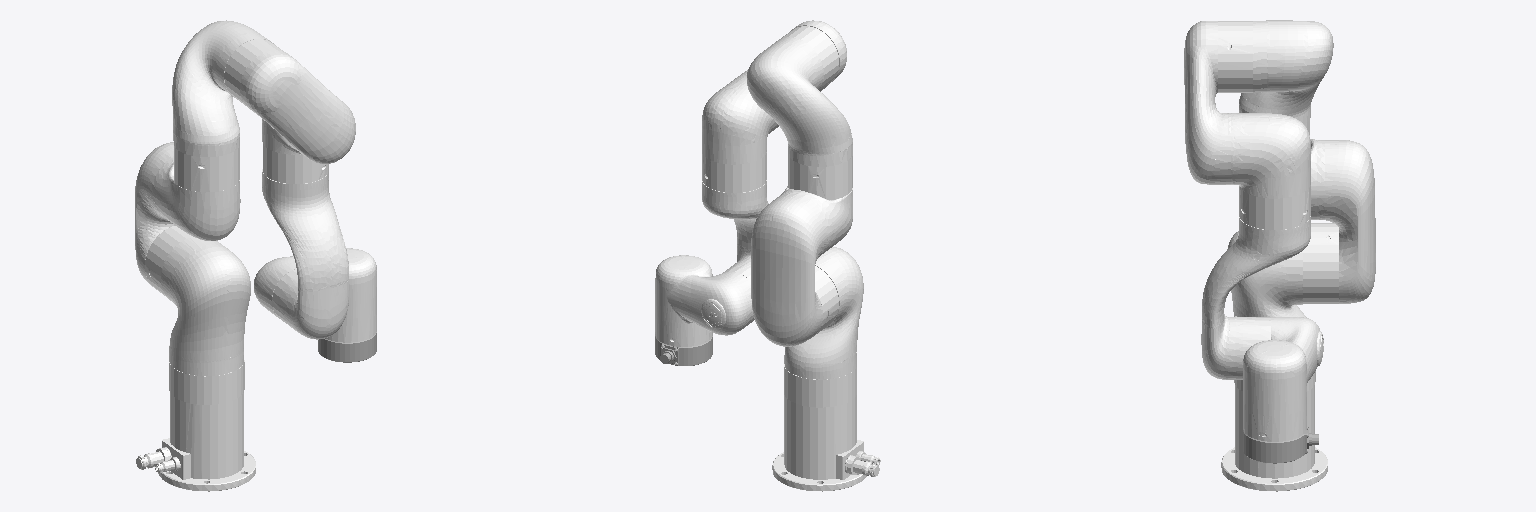
--- What the picture shows (computed from the rendered views, not written in the file) ---
3 views of the same robot in one strip: view 1: azimuth 30°, elevation 25°; view 2: azimuth 150°, elevation 25°; view 3: azimuth 270°, elevation 25° (orthographic).
Robot: UF_ROBOT — 18 links, 17 joints (13 revolute, 4 fixed); root link world; default pose: all joints at 0.
Visible links, largest first — view 1: link1, link4, link5, link_base, link3, link2, link6, link7; view 2: link2, link3, link_base, link4, link6, link1, link5, link7; view 3: link4, link3, link2, link6, link5, link1, link_base, link7.
Link boxes in pixels (x1,y1,x2,y2): link1: (145,226,250,375); link4: (240,50,355,183); link5: (262,169,348,339); link_base: (136,360,255,491); link3: (172,20,283,156); link2: (135,142,240,286); link6: (254,248,376,342); link7: (318,332,376,362); link2: (751,155,852,346); link3: (747,26,852,166); link_base: (772,364,880,491); link4: (702,20,846,192); link6: (655,255,754,346); link1: (784,247,863,378); link5: (702,180,768,280); link7: (655,336,712,365); link4: (1184,21,1310,229); link3: (1218,20,1333,123); link2: (1304,120,1375,303); link6: (1243,317,1323,441); link5: (1201,216,1310,379); link1: (1227,223,1338,317); link_base: (1221,371,1327,491); link7: (1243,426,1318,463).
Bounding box of the posed robot: 0.3358 × 0.2259 × 0.6028 m (x, y, z).
Meshes: 15 distinct files referenced, 8 mesh visuals loaded (8 binary STL); not drawn: 7 (reference not matched to a file when rendering).

URDF robot description (UF_ROBOT):
<?xml version="1.0" ?>
<!-- =================================================================================== -->
<!-- |    This document was autogenerated by xacro from xarm_description/urdf/xarm_device.urdf.xacro | -->
<!-- |    EDITING THIS FILE BY HAND IS NOT RECOMMENDED                                 | -->
<!-- =================================================================================== -->
<robot name="UF_ROBOT">
  <!-- Insert at the beginning of xarm_device_macro.xacro -->
  <material name="Black">
    <color rgba="0.0 0.0 0.0 1.0"/>
  </material>
  <material name="Red">
    <color rgba="0.8 0.0 0.0 1.0"/>
  </material>
  <material name="White">
    <color rgba="1.0 1.0 1.0 1.0"/>
  </material>
  <material name="Silver">
    <color rgba="0.753 0.753 0.753 1.0"/>
  </material>
  <link name="world"/>
  <joint name="world_joint" type="fixed">
    <parent link="world"/>
    <child link="link_base"/>
    <origin rpy="0 0 0" xyz="-0.095 -0.085 0.01"/>
  </joint>
  <link name="link_base">
    <inertial>
      <origin rpy="0 0 0" xyz="-0.021131 -0.0016302 0.056488"/>
      <mass value="0.88556"/>
      <inertia ixx="0.0030595" ixy="0.00012259" ixz="-0.00062705" iyy="0.0037783" iyz="0.00027023" izz="0.0020125"/>
    </inertial>
    <visual>
      <geometry>
        <mesh filename="link_base.stl"/>
      </geometry>
      <origin rpy="0 0 0" xyz="0 0 0"/>
      <material name="White"/>
    </visual>
    <collision>
      <geometry>
        <mesh filename="link_base.stl"/>
      </geometry>
      <origin rpy="0 0 0" xyz="0 0 0"/>
    </collision>
  </link>
  <link name="link1">
    <inertial>
      <origin rpy="0 0 0" xyz="-0.0002 0.02905 -0.01233"/>
      <mass value="2.382"/>
      <inertia ixx="0.0056905" ixy="-1.579e-05" ixz="5.125e-06" iyy="0.0049566" iyz="-0.000873378" izz="0.003316654"/>
    </inertial>
    <visual>
      <geometry>
        <mesh filename="link1.stl"/>
      </geometry>
      <origin rpy="0 0 0" xyz="0 0 0"/>
      <material name="White"/>
    </visual>
    <collision>
      <geometry>
        <mesh filename="link1.stl"/>
      </geometry>
      <origin rpy="0 0 0" xyz="0 0 0"/>
    </collision>
  </link>
  <joint name="joint1" type="revolute">
    <origin rpy="0 0 0" xyz="0 0 0.267"/>
    <parent link="link_base"/>
    <child link="link1"/>
    <axis xyz="0 0 1"/>
    <limit effort="50" lower="-6.283185307179586" upper="6.283185307179586" velocity="3.14"/>
    <dynamics damping="10" friction="1"/>
  </joint>
  <link name="link2">
    <inertial>
      <origin rpy="0 0 0" xyz="0.00022 -0.12856 0.01735"/>
      <mass value="1.869"/>
      <inertia ixx="0.0095989" ixy="1.541e-06" ixz="5.56e-06" iyy="0.00382472" iyz="-0.00317156" izz="0.007565669"/>
    </inertial>
    <visual>
      <geometry>
        <mesh filename="link2.stl"/>
      </geometry>
      <origin rpy="0 0 0" xyz="0 0 0"/>
      <material name="White"/>
    </visual>
    <collision>
      <geometry>
        <mesh filename="link2.stl"/>
      </geometry>
      <origin rpy="0 0 0" xyz="0 0 0"/>
    </collision>
  </link>
  <joint name="joint2" type="revolute">
    <origin rpy="-1.5708 0 0" xyz="0 0 0"/>
    <parent link="link1"/>
    <child link="link2"/>
    <axis xyz="0 0 1"/>
    <limit effort="50" lower="-2.059" upper="2.0944" velocity="3.14"/>
    <dynamics damping="10" friction="1"/>
  </joint>
  <link name="link3">
    <inertial>
      <origin rpy="0 0 0" xyz="0.0466 -0.02463 -0.00768"/>
      <mass value="1.6383"/>
      <inertia ixx="0.00310955" ixy="0.00030837" ixz="-0.00058453" iyy="0.00264483" iyz="0.000338893" izz="0.0026624"/>
    </inertial>
    <visual>
      <geometry>
        <mesh filename="link3.stl"/>
      </geometry>
      <origin rpy="0 0 0" xyz="0 0 0"/>
      <material name="White"/>
    </visual>
    <collision>
      <geometry>
        <mesh filename="link3.stl"/>
      </geometry>
      <origin rpy="0 0 0" xyz="0 0 0"/>
    </collision>
  </link>
  <joint name="joint3" type="revolute">
    <origin rpy="1.5708 0 0" xyz="0 -0.293 0"/>
    <parent link="link2"/>
    <child link="link3"/>
    <axis xyz="0 0 1"/>
    <limit effort="30" lower="-6.283185307179586" upper="6.283185307179586" velocity="3.14"/>
    <dynamics damping="5" friction="1"/>
  </joint>
  <link name="link4">
    <inertial>
      <origin rpy="0 0 0" xyz="0.07047 -0.11575 0.012"/>
      <mass value="1.7269"/>
      <inertia ixx="0.005889" ixy="0.00137112" ixz="0.00088143" iyy="0.00359703" iyz="-0.001762155" izz="0.00543244"/>
    </inertial>
    <visual>
      <geometry>
        <mesh filename="link4.stl"/>
      </geometry>
      <origin rpy="0 0 0" xyz="0 0 0"/>
      <material name="White"/>
    </visual>
    <collision>
      <geometry>
        <mesh filename="link4.stl"/>
      </geometry>
      <origin rpy="0 0 0" xyz="0 0 0"/>
    </collision>
  </link>
  <joint name="joint4" type="revolute">
    <origin rpy="1.5708 0 0" xyz="0.0525 0 0"/>
    <parent link="link3"/>
    <child link="link4"/>
    <axis xyz="0 0 1"/>
    <limit effort="30" lower="-0.19198" upper="3.927" velocity="3.14"/>
    <dynamics damping="5" friction="1"/>
  </joint>
  <link name="link5">
    <inertial>
      <origin rpy="0 0 0" xyz="-0.00032 0.01604 -0.026"/>
      <mass value="1.3203"/>
      <inertia ixx="0.00534665" ixy="1.5117e-05" ixz="-3.69e-07" iyy="0.0049779" iyz="-0.00022132" izz="0.0013624"/>
    </inertial>
    <visual>
      <geometry>
        <mesh filename="link5.stl"/>
      </geometry>
      <origin rpy="0 0 0" xyz="0 0 0"/>
      <material name="White"/>
    </visual>
    <collision>
      <geometry>
        <mesh filename="link5.stl"/>
      </geometry>
      <origin rpy="0 0 0" xyz="0 0 0"/>
    </collision>
  </link>
  <joint name="joint5" type="revolute">
    <origin rpy="1.5708 0 0" xyz="0.0775 -0.3425 0"/>
    <parent link="link4"/>
    <child link="link5"/>
    <axis xyz="0 0 1"/>
    <limit effort="30" lower="-6.283185307179586" upper="6.283185307179586" velocity="3.14"/>
    <dynamics damping="5" friction="1"/>
  </joint>
  <link name="link6">
    <inertial>
      <origin rpy="0 0 0" xyz="0.06469 0.03278 0.02141"/>
      <mass value="1.325"/>
      <inertia ixx="0.0014745" ixy="-0.000488" ixz="0.0002953" iyy="0.0019037" iyz="0.00014749" izz="0.0023652"/>
    </inertial>
    <visual>
      <geometry>
        <mesh filename="link6.stl"/>
      </geometry>
      <origin rpy="0 0 0" xyz="0 0 0"/>
      <material name="White"/>
    </visual>
    <collision>
      <geometry>
        <mesh filename="link6.stl"/>
      </geometry>
      <origin rpy="0 0 0" xyz="0 0 0"/>
    </collision>
  </link>
  <joint name="joint6" type="revolute">
    <origin rpy="1.5708 0 0" xyz="0 0 0"/>
    <parent link="link5"/>
    <child link="link6"/>
    <axis xyz="0 0 1"/>
    <limit effort="20" lower="-1.69297" upper="3.141592653589793" velocity="3.14"/>
    <dynamics damping="2" friction="1"/>
  </joint>
  <link name="link7">
    <inertial>
      <origin rpy="0 0 0" xyz="0 -0.00677 -0.01098"/>
      <mass value="0.17"/>
      <inertia ixx="9.3e-05" ixy="-0.0" ixz="-0.0" iyy="5.87e-05" iyz="-3.6e-06" izz="0.000132"/>
    </inertial>
    <visual>
      <geometry>
        <mesh filename="link7.stl"/>
      </geometry>
      <origin rpy="0 0 0" xyz="0 0 0"/>
      <material name="Silver"/>
    </visual>
    <collision>
      <geometry>
        <mesh filename="end_tool.stl"/>
      </geometry>
      <origin rpy="0 0 0" xyz="0 0 0"/>
    </collision>
  </link>
  <joint name="joint7" type="revolute">
    <origin rpy="-1.5708 0 0" xyz="0.076 0.097 0"/>
    <parent link="link6"/>
    <child link="link7"/>
    <axis xyz="0 0 1"/>
    <limit effort="20" lower="-6.283185307179586" upper="6.283185307179586" velocity="3.14"/>
    <dynamics damping="2" friction="1"/>
  </joint>
  <!-- <link name="${prefix}link_eef" />
    <joint name="${prefix}joint_eef" type="fixed">
      <origin xyz="0 0 0" rpy="0 0 0" />
      <parent link="${prefix}link7" />
      <child link="${prefix}link_eef" />
    </joint> -->
  <transmission name="tran1">
    <type>transmission_interface/SimpleTransmission</type>
    <joint name="joint1">
      <hardwareInterface>hardware_interface/PositionJointInterface</hardwareInterface>
    </joint>
    <actuator name="motor1">
      <hardwareInterface>hardware_interface/PositionJointInterface</hardwareInterface>
      <mechanicalReduction>100</mechanicalReduction>
    </actuator>
  </transmission>
  <transmission name="tran2">
    <type>transmission_interface/SimpleTransmission</type>
    <joint name="joint2">
      <hardwareInterface>hardware_interface/PositionJointInterface</hardwareInterface>
    </joint>
    <actuator name="motor2">
      <hardwareInterface>hardware_interface/PositionJointInterface</hardwareInterface>
      <mechanicalReduction>100</mechanicalReduction>
    </actuator>
  </transmission>
  <transmission name="tran3">
    <type>transmission_interface/SimpleTransmission</type>
    <joint name="joint3">
      <hardwareInterface>hardware_interface/PositionJointInterface</hardwareInterface>
    </joint>
    <actuator name="motor3">
      <hardwareInterface>hardware_interface/PositionJointInterface</hardwareInterface>
      <mechanicalReduction>100</mechanicalReduction>
    </actuator>
  </transmission>
  <transmission name="tran4">
    <type>transmission_interface/SimpleTransmission</type>
    <joint name="joint4">
      <hardwareInterface>hardware_interface/PositionJointInterface</hardwareInterface>
    </joint>
    <actuator name="motor4">
      <hardwareInterface>hardware_interface/PositionJointInterface</hardwareInterface>
      <mechanicalReduction>100</mechanicalReduction>
    </actuator>
  </transmission>
  <transmission name="tran5">
    <type>transmission_interface/SimpleTransmission</type>
    <joint name="joint5">
      <hardwareInterface>hardware_interface/PositionJointInterface</hardwareInterface>
    </joint>
    <actuator name="motor5">
      <hardwareInterface>hardware_interface/PositionJointInterface</hardwareInterface>
      <mechanicalReduction>100</mechanicalReduction>
    </actuator>
  </transmission>
  <transmission name="tran6">
    <type>transmission_interface/SimpleTransmission</type>
    <joint name="joint6">
      <hardwareInterface>hardware_interface/PositionJointInterface</hardwareInterface>
    </joint>
    <actuator name="motor6">
      <hardwareInterface>hardware_interface/PositionJointInterface</hardwareInterface>
      <mechanicalReduction>100</mechanicalReduction>
    </actuator>
  </transmission>
  <transmission name="tran7">
    <type>transmission_interface/SimpleTransmission</type>
    <joint name="joint7">
      <hardwareInterface>hardware_interface/PositionJointInterface</hardwareInterface>
    </joint>
    <actuator name="motor7">
      <hardwareInterface>hardware_interface/PositionJointInterface</hardwareInterface>
      <mechanicalReduction>100</mechanicalReduction>
    </actuator>
  </transmission>
  <gazebo reference="link_base">
    <selfCollide>true</selfCollide>
  </gazebo>
  <gazebo reference="link1">
    <selfCollide>true</selfCollide>
  </gazebo>
  <gazebo reference="link2">
    <selfCollide>true</selfCollide>
  </gazebo>
  <gazebo reference="link3">
    <selfCollide>true</selfCollide>
  </gazebo>
  <gazebo reference="link4">
    <selfCollide>true</selfCollide>
  </gazebo>
  <gazebo reference="link5">
    <selfCollide>true</selfCollide>
  </gazebo>
  <gazebo reference="link6">
    <selfCollide>true</selfCollide>
  </gazebo>
  <gazebo reference="link7">
    <selfCollide>true</selfCollide>
  </gazebo>
  <link name="link_eef"/>
  <joint name="joint_eef" type="fixed">
    <origin rpy="0 0 0" xyz="0 0 0"/>
    <parent link="link7"/>
    <child link="link_eef"/>
  </joint>
  <joint name="gripper_fix" type="fixed">
    <parent link="link_eef"/>
    <child link="xarm_gripper_base_link"/>
    <origin rpy="0 0 3.141592653589793" xyz="0 0 0"/>
  </joint>
  <link name="xarm_gripper_base_link">
    <inertial>
      <origin rpy="0 0 0" xyz="-0.00065489 -0.0018497 0.048028"/>
      <mass value="0.54156"/>
      <inertia ixx="0.00047106" ixy="3.9292E-07" ixz="2.6537E-06" iyy="0.00033072" iyz="-1.0975E-05" izz="0.00025642"/>
    </inertial>
    <visual>
      <geometry>
        <mesh filename="base_link.stl"/>
      </geometry>
      <origin rpy="0 0 0" xyz="0 0 0"/>
      <material name="White"/>
    </visual>
    <collision>
      <geometry>
        <mesh filename="base_link.stl"/>
      </geometry>
      <origin rpy="0 0 0" xyz="0 0 0"/>
    </collision>
  </link>
  <link name="left_outer_knuckle">
    <inertial>
      <origin rpy="0 0 0" xyz="2.9948E-14 0.021559 0.015181"/>
      <mass value="0.033618"/>
      <inertia ixx="1.9111E-05" ixy="-1.8803E-17" ixz="-1.1002E-17" iyy="6.6256E-06" iyz="-7.3008E-06" izz="1.3185E-05"/>
    </inertial>
    <visual>
      <geometry>
        <mesh filename="left_outer_knuckle.stl"/>
      </geometry>
      <origin rpy="0 0 0" xyz="0 0 0"/>
      <material name="Silver"/>
    </visual>
    <collision>
      <geometry>
        <mesh filename="left_outer_knuckle.stl"/>
      </geometry>
      <origin rpy="0 0 0" xyz="0 0 0"/>
    </collision>
  </link>
  <joint name="drive_joint" type="revolute">
    <origin rpy="0 0 0" xyz="0 0.035 0.059098"/>
    <parent link="xarm_gripper_base_link"/>
    <child link="left_outer_knuckle"/>
    <axis xyz="1 0 0"/>
    <limit effort="50" lower="0" upper="0.85" velocity="2"/>
  </joint>
  <link name="left_finger">
    <inertial>
      <origin rpy="0 0 0" xyz="-2.4536E-14 -0.016413 0.029258"/>
      <mass value="0.048304"/>
      <inertia ixx="1.7493E-05" ixy="-4.2156E-19" ixz="6.9164E-18" iyy="1.7225E-05" iyz="4.6433E-06" izz="5.1466E-06"/>
    </inertial>
    <visual>
      <geometry>
        <mesh filename="left_finger.stl"/>
      </geometry>
      <origin rpy="0 0 0" xyz="0 0 0"/>
      <material name="Silver"/>
    </visual>
    <collision>
      <geometry>
        <mesh filename="left_finger.stl"/>
      </geometry>
      <origin rpy="0 0 0" xyz="0 0 0"/>
    </collision>
  </link>
  <joint name="left_finger_joint" type="revolute">
    <origin rpy="0 0 0" xyz="0 0.035465 0.042039"/>
    <parent link="left_outer_knuckle"/>
    <child link="left_finger"/>
    <axis xyz="-1 0 0"/>
    <limit effort="50" lower="0" upper="0.85" velocity="2"/>
    <mimic joint="drive_joint" multiplier="1" offset="0"/>
  </joint>
  <link name="left_inner_knuckle">
    <inertial>
      <origin rpy="0 0 0" xyz="1.86600784687907E-06 0.0220467847633621 0.0261334672830885"/>
      <mass value="0.0230125781256706"/>
      <inertia ixx="6.09490024271906E-06" ixy="6.06651326160071E-11" ixz="7.19102670500635E-11" iyy="6.01955084375188E-06" iyz="-2.75316812991721E-06" izz="5.07862004479903E-06"/>
    </inertial>
    <visual>
      <geometry>
        <mesh filename="left_inner_knuckle.stl"/>
      </geometry>
      <origin rpy="0 0 0" xyz="0 0 0"/>
      <material name="Silver"/>
    </visual>
    <collision>
      <geometry>
        <mesh filename="left_inner_knuckle.stl"/>
      </geometry>
      <origin rpy="0 0 0" xyz="0 0 0"/>
    </collision>
  </link>
  <joint name="left_inner_knuckle_joint" type="revolute">
    <origin rpy="0 0 0" xyz="0 0.02 0.074098"/>
    <parent link="xarm_gripper_base_link"/>
    <child link="left_inner_knuckle"/>
    <axis xyz="1 0 0"/>
    <limit effort="50" lower="0" upper="0.85" velocity="2"/>
    <mimic joint="drive_joint" multiplier="1" offset="0"/>
  </joint>
  <link name="right_outer_knuckle">
    <inertial>
      <origin rpy="0 0 0" xyz="-3.1669E-14 -0.021559 0.015181"/>
      <mass value="0.033618"/>
      <inertia ixx="1.9111E-05" ixy="-1.8789E-17" ixz="1.0986E-17" iyy="6.6256E-06" iyz="7.3008E-06" izz="1.3185E-05"/>
    </inertial>
    <visual>
      <geometry>
        <mesh filename="right_outer_knuckle.stl"/>
      </geometry>
      <origin rpy="0 0 0" xyz="0 0 0"/>
      <material name="Silver"/>
    </visual>
    <collision>
      <geometry>
        <mesh filename="right_outer_knuckle.stl"/>
      </geometry>
      <origin rpy="0 0 0" xyz="0 0 0"/>
    </collision>
  </link>
  <joint name="right_outer_knuckle_joint" type="revolute">
    <origin rpy="0 0 0" xyz="0 -0.035 0.059098"/>
    <parent link="xarm_gripper_base_link"/>
    <child link="right_outer_knuckle"/>
    <axis xyz="-1 0 0"/>
    <limit effort="50" lower="0" upper="0.85" velocity="2"/>
    <mimic joint="drive_joint" multiplier="1" offset="0"/>
  </joint>
  <link name="right_finger">
    <inertial>
      <origin rpy="0 0 0" xyz="2.5618E-14 0.016413 0.029258"/>
      <mass value="0.048304"/>
      <inertia ixx="1.7493E-05" ixy="-5.0014E-19" ixz="-7.5079E-18" iyy="1.7225E-05" iyz="-4.6435E-06" izz="5.1466E-06"/>
    </inertial>
    <visual>
      <geometry>
        <mesh filename="right_finger.stl"/>
      </geometry>
      <origin rpy="0 0 0" xyz="0 0 0"/>
      <material name="Silver"/>
    </visual>
    <collision>
      <geometry>
        <mesh filename="right_finger.stl"/>
      </geometry>
      <origin rpy="0 0 0" xyz="0 0 0"/>
    </collision>
  </link>
  <joint name="right_finger_joint" type="revolute">
    <origin rpy="0 0 0" xyz="0 -0.035465 0.042039"/>
    <parent link="right_outer_knuckle"/>
    <child link="right_finger"/>
    <axis xyz="1 0 0"/>
    <limit effort="50" lower="0" upper="0.85" velocity="2"/>
    <mimic joint="drive_joint" multiplier="1" offset="0"/>
  </joint>
  <link name="right_inner_knuckle">
    <inertial>
      <origin rpy="0 0 0" xyz="1.866E-06 -0.022047 0.026133"/>
      <mass value="0.023013"/>
      <inertia ixx="6.0949E-06" ixy="-6.0665E-11" ixz="7.191E-11" iyy="6.0197E-06" iyz="2.7531E-06" izz="5.0784E-06"/>
    </inertial>
    <visual>
      <geometry>
        <mesh filename="right_inner_knuckle.stl"/>
      </geometry>
      <origin rpy="0 0 0" xyz="0 0 0"/>
      <material name="Silver"/>
    </visual>
    <collision>
      <geometry>
        <mesh filename="right_inner_knuckle.stl"/>
      </geometry>
      <origin rpy="0 0 0" xyz="0 0 0"/>
    </collision>
  </link>
  <joint name="right_inner_knuckle_joint" type="revolute">
    <origin rpy="0 0 0" xyz="0 -0.02 0.074098"/>
    <parent link="xarm_gripper_base_link"/>
    <child link="right_inner_knuckle"/>
    <axis xyz="-1 0 0"/>
    <limit effort="50" lower="0" upper="0.85" velocity="2"/>
    <mimic joint="drive_joint" multiplier="1" offset="0"/>
  </joint>
  <link name="link_tcp"/>
  <joint name="joint_tcp" type="fixed">
    <origin rpy="3.1415 -1.5707 0" xyz="0 0 0.152"/>
    <parent link="xarm_gripper_base_link"/>
    <child link="link_tcp"/>
  </joint>
  <transmission name="drive_joint_trans">
    <type>transmission_interface/SimpleTransmission</type>
    <joint name="drive_joint">
      <hardwareInterface>hardware_interface/PositionJointInterface</hardwareInterface>
    </joint>
    <actuator name="drive_joint_motor">
      <hardwareInterface>hardware_interface/PositionJointInterface</hardwareInterface>
      <mechanicalReduction>1</mechanicalReduction>
    </actuator>
  </transmission>
  <gazebo reference="xarm_gripper_base_link">
    <selfCollide>false</selfCollide>
  </gazebo>
  <gazebo reference="left_outer_knuckle">
    <selfCollide>false</selfCollide>
  </gazebo>
  <gazebo reference="left_finger">
    <selfCollide>false</selfCollide>
  </gazebo>
  <gazebo reference="left_inner_knuckle">
    <selfCollide>false</selfCollide>
  </gazebo>
  <gazebo reference="right_outer_knuckle">
    <selfCollide>false</selfCollide>
  </gazebo>
  <gazebo reference="right_finger">
    <selfCollide>false</selfCollide>
  </gazebo>
  <gazebo reference="right_inner_knuckle">
    <selfCollide>false</selfCollide>
  </gazebo>
  <gazebo>
    <plugin filename="libgazebo_grasp_fix.so" name="gazebo_grasp_fix">
      <arm>
        <arm_name>xarm_gripper</arm_name>
        <palm_link>link7</palm_link>
        <gripper_link>left_inner_knuckle</gripper_link>
        <gripper_link>right_inner_knuckle</gripper_link>
        <!-- <gripper_link>${prefix}left_outer_knuckle</gripper_link>
          <gripper_link>${prefix}right_outer_knuckle</gripper_link> -->
        <gripper_link>left_finger</gripper_link>
        <gripper_link>right_finger</gripper_link>
      </arm>
      <forces_angle_tolerance>100</forces_angle_tolerance>
      <update_rate>10</update_rate>
      <grip_count_threshold>2</grip_count_threshold>
      <max_grip_count>3</max_grip_count>
      <release_tolerance>0.0198</release_tolerance>
      <disable_collisions_on_attach>false</disable_collisions_on_attach>
      <contact_topic>__default_topic__</contact_topic>
    </plugin>
  </gazebo>
  <!-- <xacro:property name="filename" value="libroboticsgroup_upatras_gazebo_mimic_joint_plugin.so" /> -->
  <gazebo>
    <plugin filename="libroboticsgroup_gazebo_mimic_joint_plugin.so" name="left_finger_jointmimic_joint_plugin">
      <joint>drive_joint</joint>
      <mimicJoint>left_finger_joint</mimicJoint>
      <multiplier>1.0</multiplier>
      <offset>0</offset>
      <sensitiveness>0.0</sensitiveness>
      <!-- if absolute difference between setpoint and process value is below this threshold, do nothing; 0.0 = disable [rad] -->
      <maxEffort>10.0</maxEffort>
    </plugin>
  </gazebo>
  <!-- <xacro:property name="filename" value="libroboticsgroup_upatras_gazebo_mimic_joint_plugin.so" /> -->
  <gazebo>
    <plugin filename="libroboticsgroup_gazebo_mimic_joint_plugin.so" name="left_inner_knuckle_jointmimic_joint_plugin">
      <joint>drive_joint</joint>
      <mimicJoint>left_inner_knuckle_joint</mimicJoint>
      <multiplier>1.0</multiplier>
      <offset>0</offset>
      <sensitiveness>0.0</sensitiveness>
      <!-- if absolute difference between setpoint and process value is below this threshold, do nothing; 0.0 = disable [rad] -->
      <maxEffort>10.0</maxEffort>
    </plugin>
  </gazebo>
  <!-- <xacro:property name="filename" value="libroboticsgroup_upatras_gazebo_mimic_joint_plugin.so" /> -->
  <gazebo>
    <plugin filename="libroboticsgroup_gazebo_mimic_joint_plugin.so" name="right_outer_knuckle_jointmimic_joint_plugin">
      <joint>drive_joint</joint>
      <mimicJoint>right_outer_knuckle_joint</mimicJoint>
      <multiplier>1.0</multiplier>
      <offset>0</offset>
      <sensitiveness>0.0</sensitiveness>
      <!-- if absolute difference between setpoint and process value is below this threshold, do nothing; 0.0 = disable [rad] -->
      <maxEffort>10.0</maxEffort>
    </plugin>
  </gazebo>
  <!-- <xacro:property name="filename" value="libroboticsgroup_upatras_gazebo_mimic_joint_plugin.so" /> -->
  <gazebo>
    <plugin filename="libroboticsgroup_gazebo_mimic_joint_plugin.so" name="right_finger_jointmimic_joint_plugin">
      <joint>drive_joint</joint>
      <mimicJoint>right_finger_joint</mimicJoint>
      <multiplier>1.0</multiplier>
      <offset>0</offset>
      <sensitiveness>0.0</sensitiveness>
      <!-- if absolute difference between setpoint and process value is below this threshold, do nothing; 0.0 = disable [rad] -->
      <maxEffort>10.0</maxEffort>
    </plugin>
  </gazebo>
  <!-- <xacro:property name="filename" value="libroboticsgroup_upatras_gazebo_mimic_joint_plugin.so" /> -->
  <gazebo>
    <plugin filename="libroboticsgroup_gazebo_mimic_joint_plugin.so" name="right_inner_knuckle_jointmimic_joint_plugin">
      <joint>drive_joint</joint>
      <mimicJoint>right_inner_knuckle_joint</mimicJoint>
      <multiplier>1.0</multiplier>
      <offset>0</offset>
      <sensitiveness>0.0</sensitiveness>
      <!-- if absolute difference between setpoint and process value is below this threshold, do nothing; 0.0 = disable [rad] -->
      <maxEffort>10.0</maxEffort>
    </plugin>
  </gazebo>
  <gazebo>
    <plugin filename="libgazebo_ros_control.so" name="gazebo_ros_control">
      <robotNamespace>xarm</robotNamespace>
      <!-- <controlPeriod>0.0001</controlPeriod> -->
      <robotSimType>gazebo_ros_control/DefaultRobotHWSim</robotSimType>
      <legacyModeNS>true</legacyModeNS>
      <!-- <preserveWorldVelocity>true</preserveWorldVelocity> -->
    </plugin>
  </gazebo>
  <!-- Insert at the end of xarm_device_macro.xacro -->
</robot>
